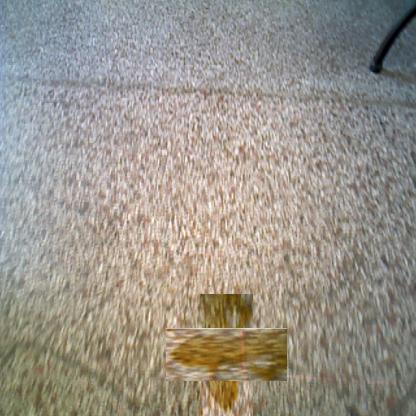liquid: (183, 311, 270, 399)
